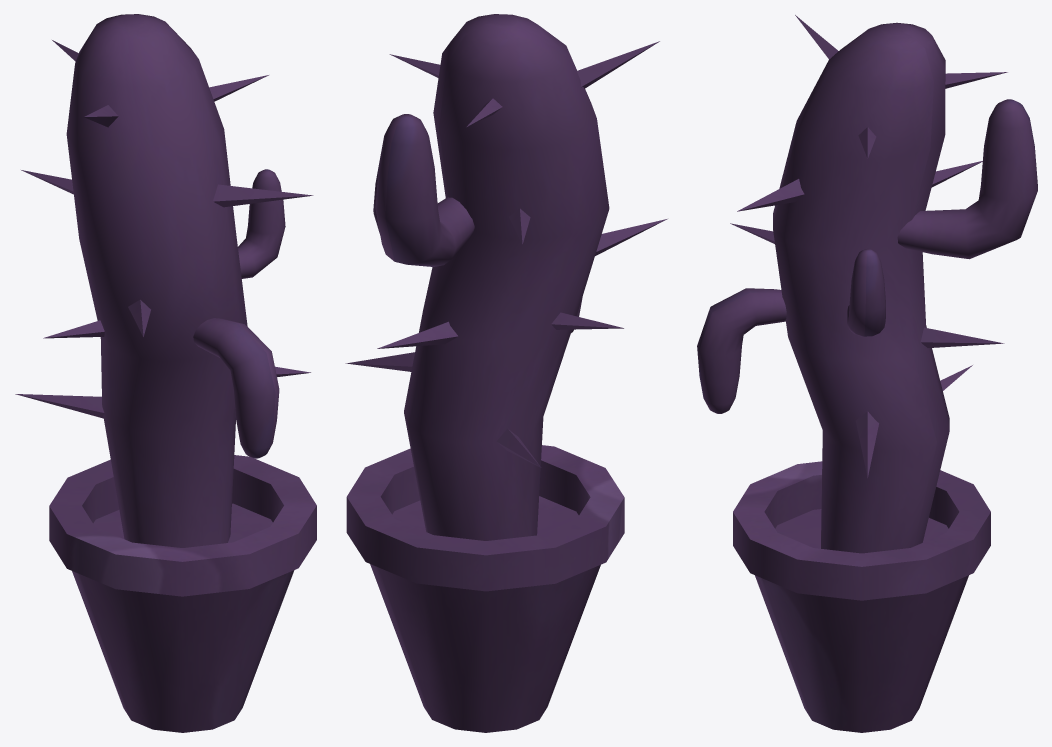
File: cact3.fbx
3 views of the same model, side by side, from view 1: azimuth 30°, elevation 25°; view 2: azimuth 150°, elevation 25°; view 3: azimuth 270°, elevation 25° (orthographic). The views are drawn at different scales.
Parts seen in each view (by area): view 1: pCylinder33; view 2: pCylinder33; view 3: pCylinder33.
Boxes of the visible parts, x1=… form: pCylinder33: x1=15, y1=14, x2=316, y2=732; pCylinder33: x1=345, y1=14, x2=667, y2=732; pCylinder33: x1=697, y1=15, x2=1037, y2=732.
Bounding box in the file's own units: 2.94 × 7.09 × 3.31.
